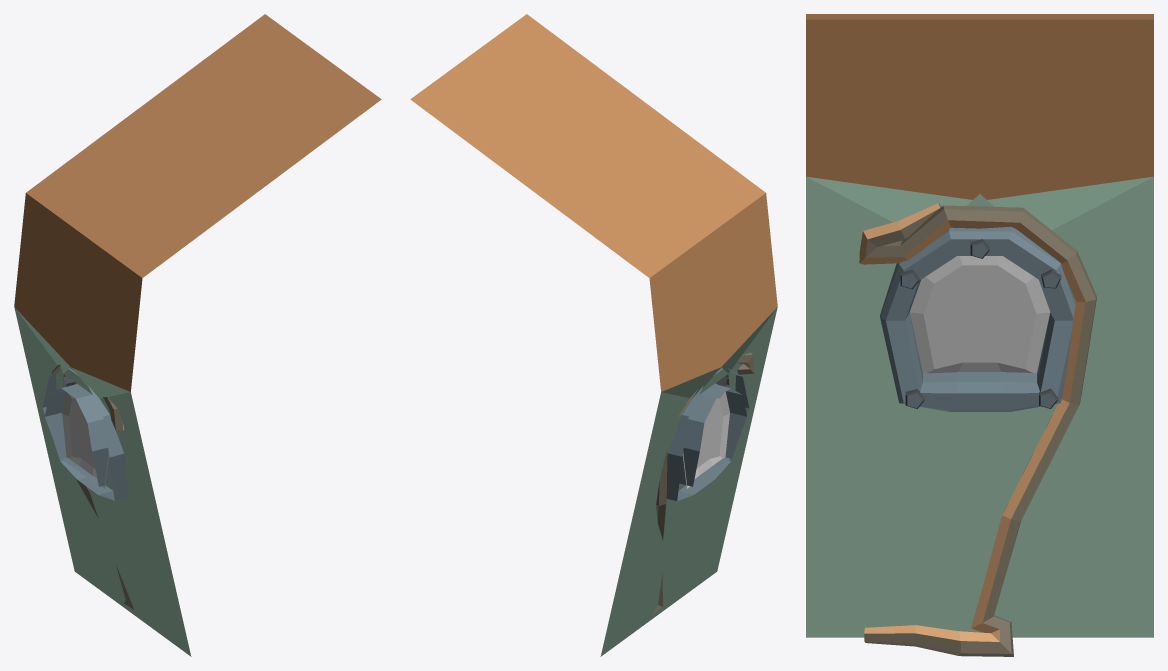
Rendered from Lateral6.FBX.
3 views of the same model, side by side, from view 1: azimuth 30°, elevation 25°; view 2: azimuth 150°, elevation 25°; view 3: azimuth 270°, elevation 25° (orthographic). The views are drawn at different scales.
Visible parts, largest first — view 1: Laterales05; view 2: Laterales05; view 3: Laterales05.
Boxes of the visible parts, x1,y1,x2,y2 form: Laterales05: (14, 14, 381, 656); Laterales05: (410, 14, 777, 656); Laterales05: (806, 14, 1153, 656).
Bounding box in the file's own units: 379 × 300 × 735.
